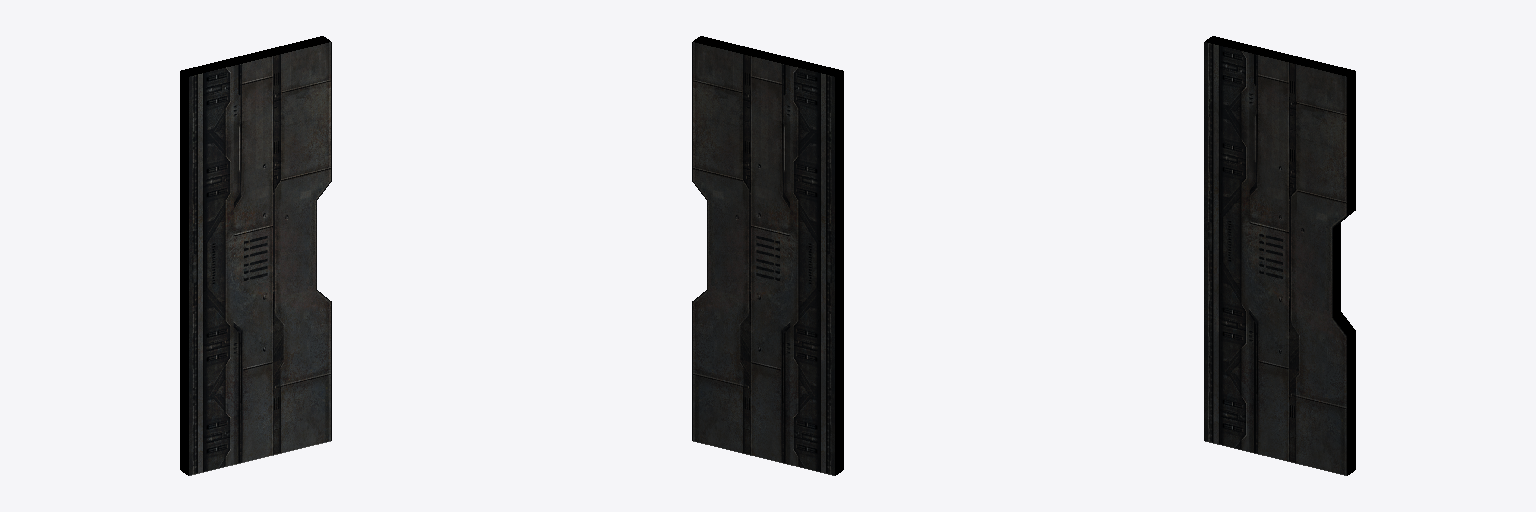
3 renders of one model, left to right at view 1: azimuth 30°, elevation 25°; view 2: azimuth 150°, elevation 25°; view 3: azimuth 330°, elevation 25°, orthographic.
Parts seen in each view (by area): view 1: Body.001; view 2: Body.001; view 3: Body.001.
Boxes of the visible parts, box(x1,y1,x2,y2) form: Body.001: box(180, 36, 331, 475); Body.001: box(692, 36, 843, 475); Body.001: box(1204, 36, 1355, 475).
Bounding box in the file's own units: 0.75 × 2 × 0.075.
Materials: 1 (1 with a texture image).